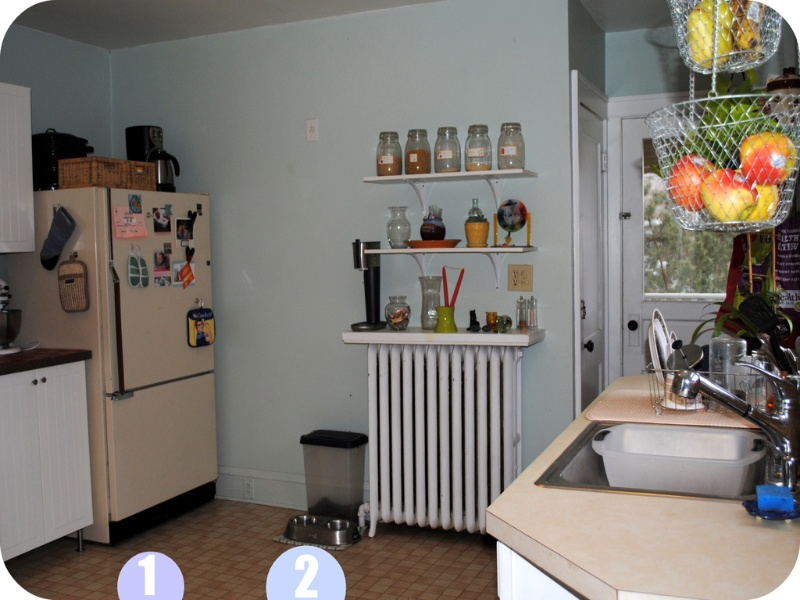apple: (696, 163, 757, 224), (740, 131, 800, 182)
refrigerator: (69, 180, 232, 531)
